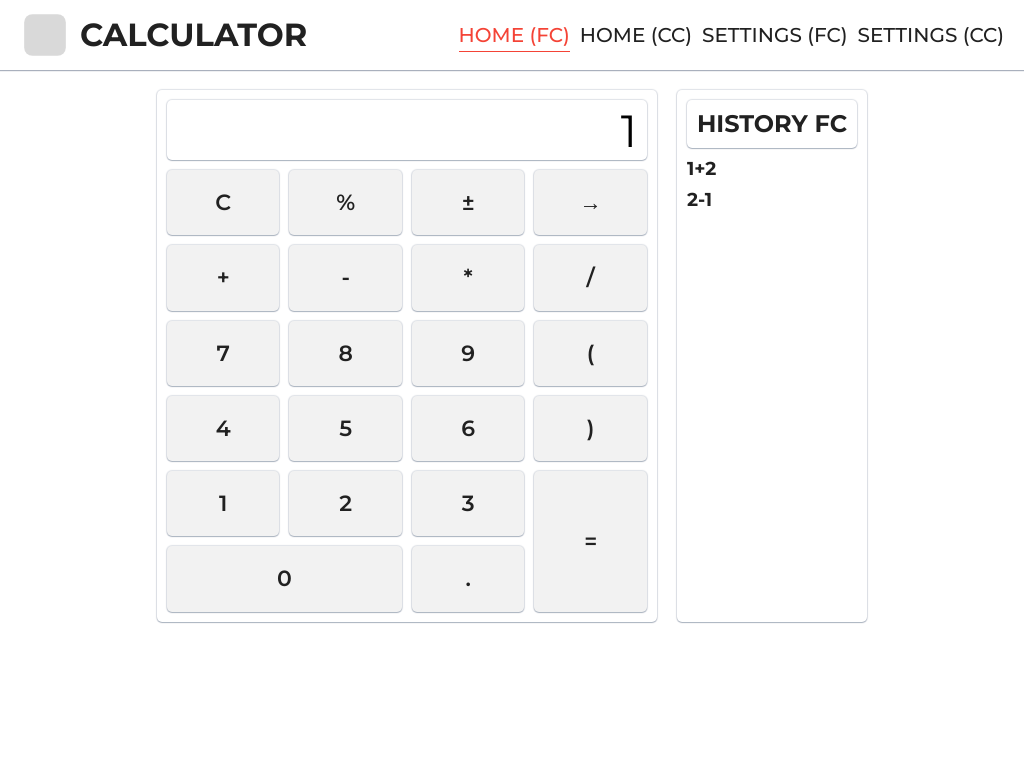
Calculator App › Should check the work of multiplication
Click the button "C": {"x": 224, "y": 203} [167,170,280,235]
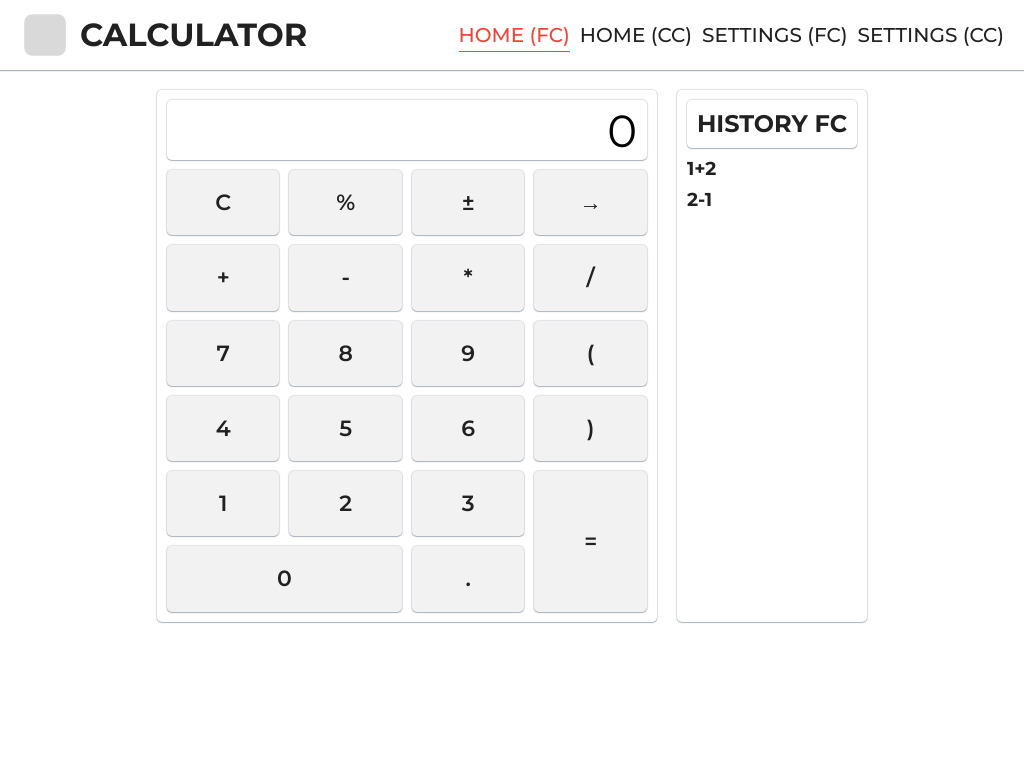
Now the field holds "0", box [167,100,647,160]
Click the button "2": {"x": 346, "y": 504} [289,471,402,536]
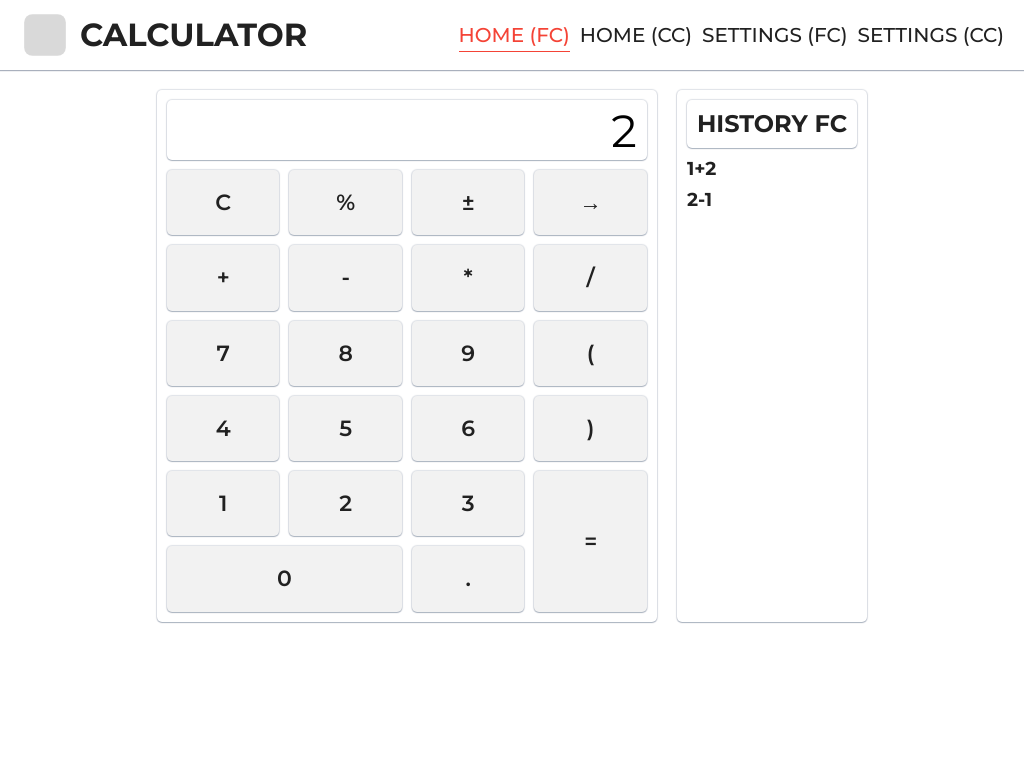
Click the button "*": {"x": 469, "y": 278} [412,245,525,310]
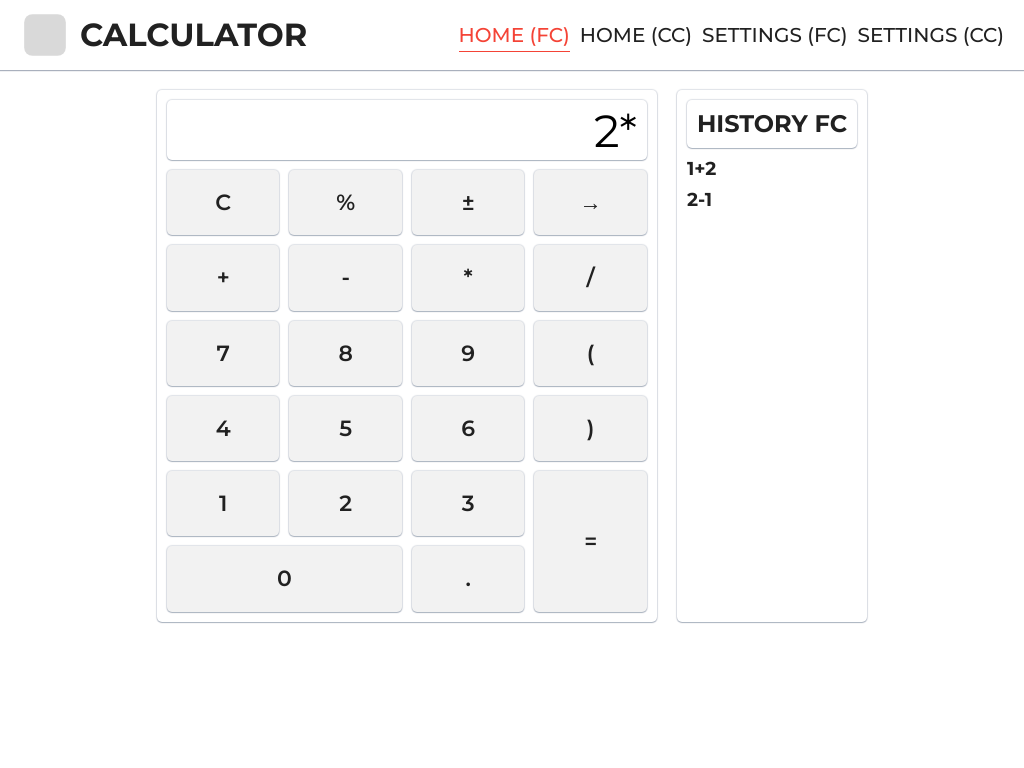
Click the button "2": {"x": 346, "y": 504} [289,471,402,536]
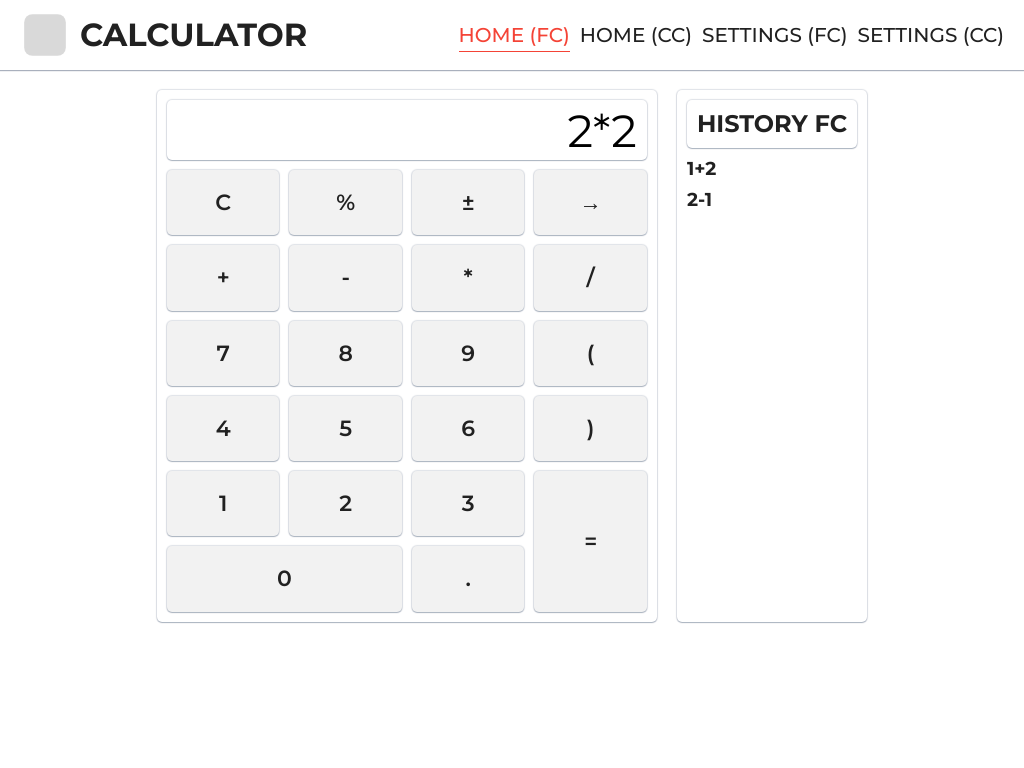
Click the button "=": {"x": 591, "y": 542} [534,471,647,612]
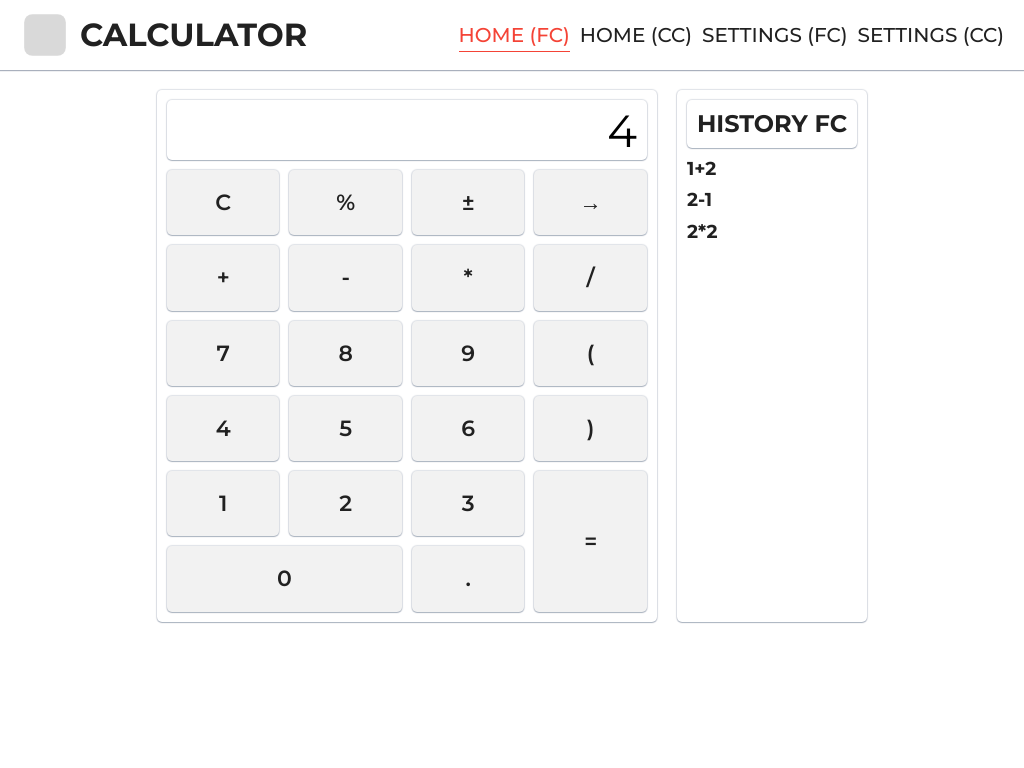
Now the field holds "4", box [167,100,647,160]
